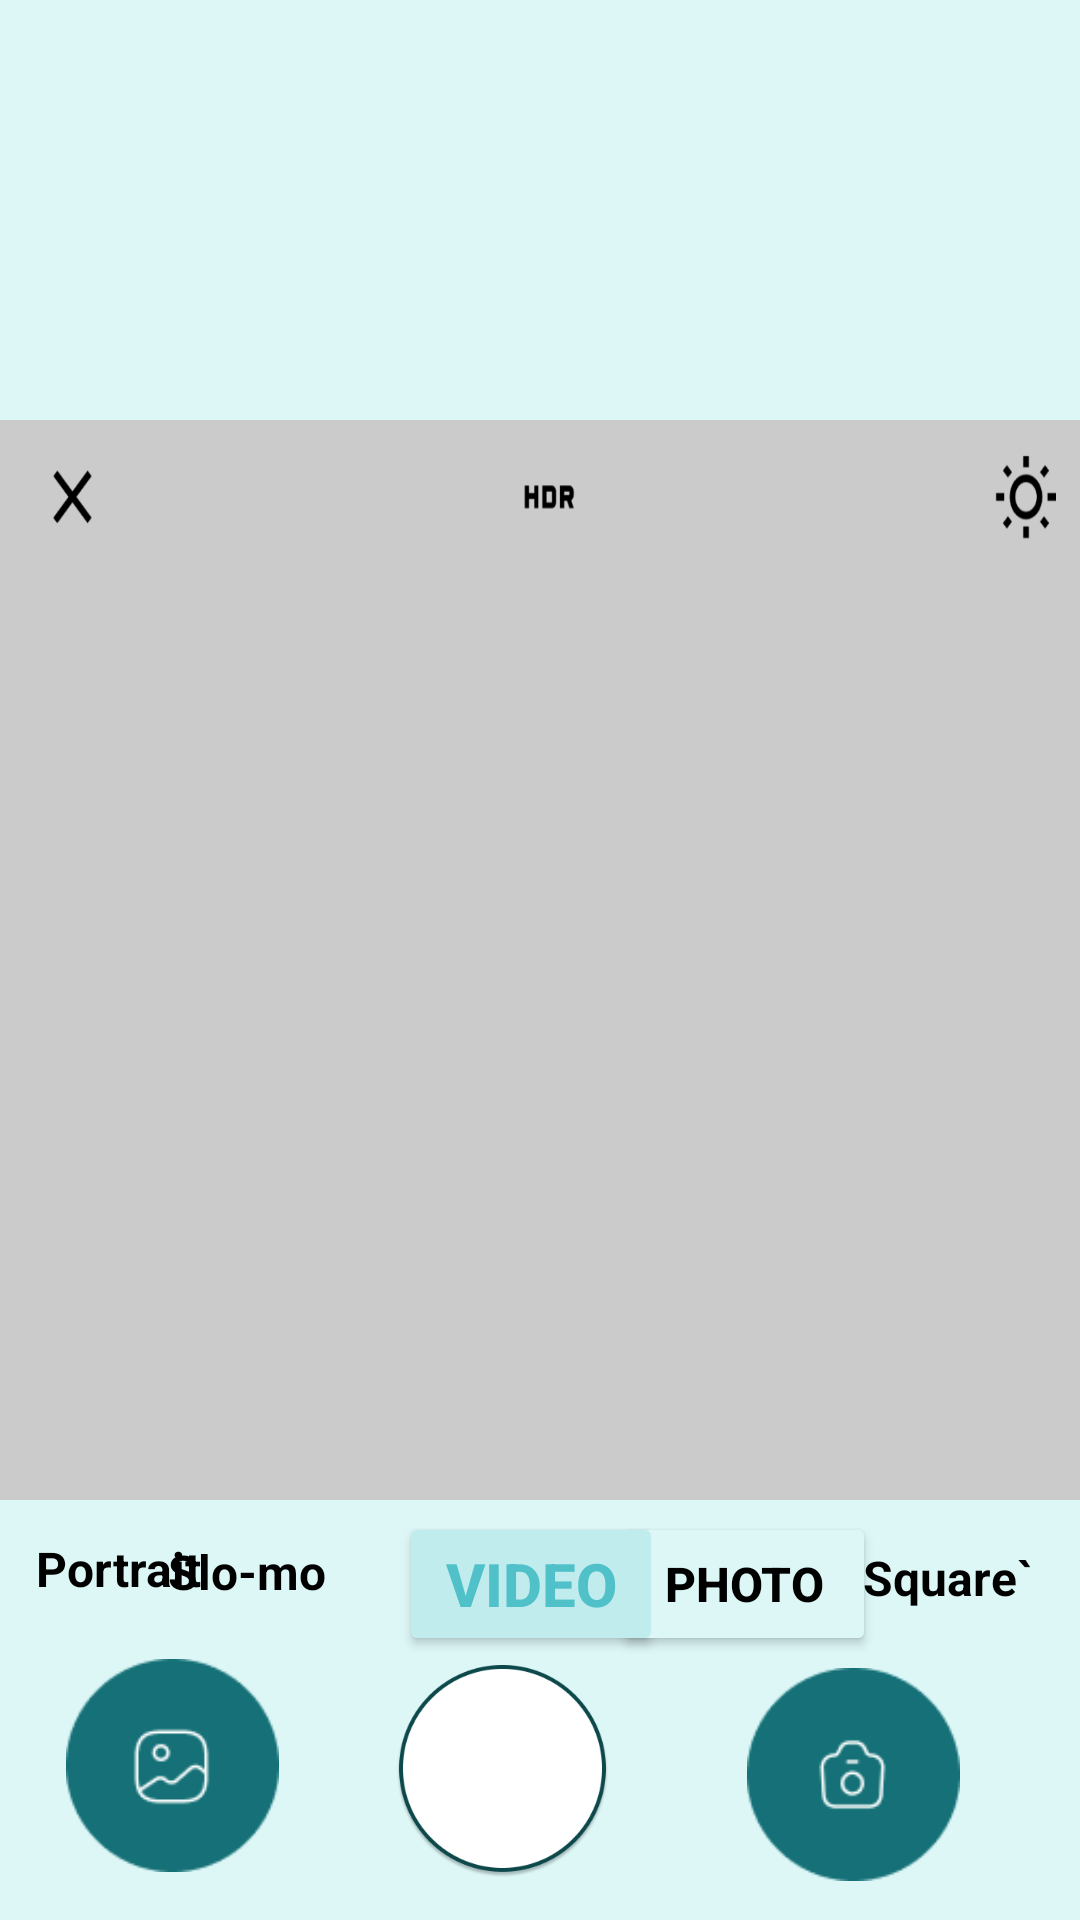

Screen size 1080 × 1920. Icon name, then its center in pixels as (x=x, y=y):
shutter: (x=502, y=1770)
